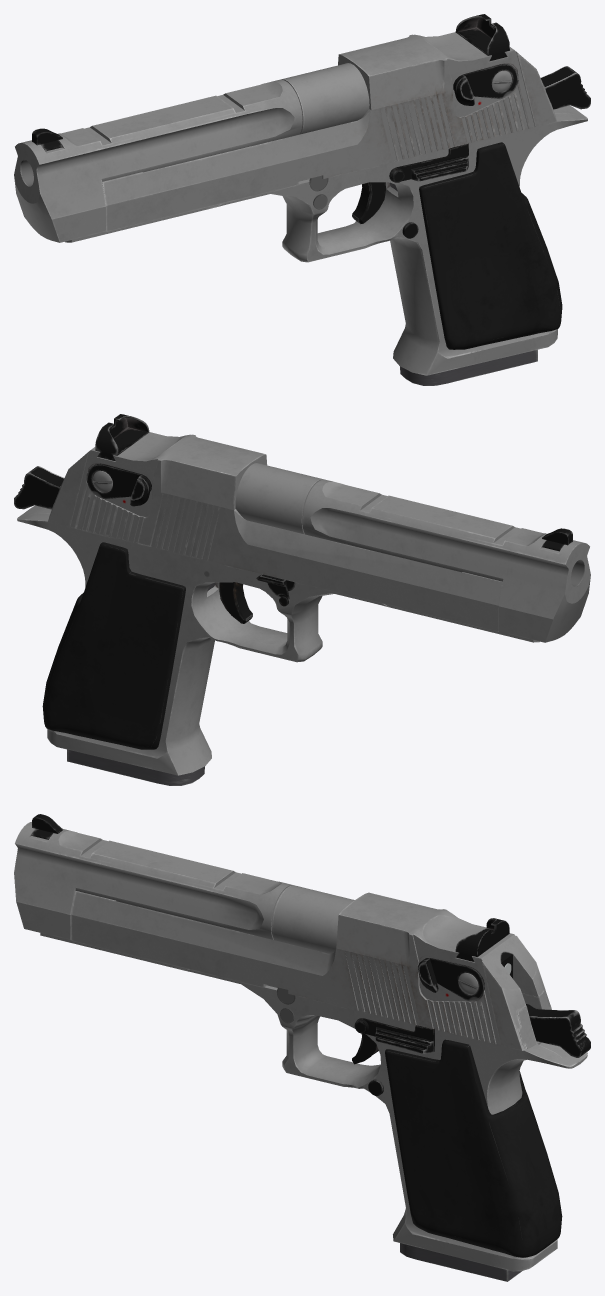
File: deagle.fbx
3 views of the same model, one above another, from view 1: azimuth 30°, elevation 25°; view 2: azimuth 150°, elevation 25°; view 3: azimuth 330°, elevation 25° (orthographic).
Parts seen in each view (by area): view 1: Desert Deagle, Bolt, Safety, Mag, Bolt_Holder, Hammer, Trigger; view 2: Desert Deagle, Bolt, Safety, Mag, Hammer, Trigger; view 3: Desert Deagle, Bolt, Hammer, Safety, Bolt_Holder, Mag.
Part boxes in pixels (x1=…): Desert Deagle: x1=14, y1=63, x2=587, y2=375; Bolt: x1=102, y1=14, x2=557, y2=231; Safety: x1=453, y1=64, x2=518, y2=105; Mag: x1=389, y1=182, x2=537, y2=385; Bolt_Holder: x1=389, y1=143, x2=468, y2=182; Hammer: x1=541, y1=66, x2=590, y2=109; Trigger: x1=352, y1=182, x2=385, y2=223; Desert Deagle: x1=17, y1=463, x2=590, y2=775; Bolt: x1=48, y1=414, x2=502, y2=631; Safety: x1=86, y1=463, x2=151, y2=506; Mag: x1=67, y1=582, x2=215, y2=785; Hammer: x1=14, y1=466, x2=64, y2=509; Trigger: x1=219, y1=582, x2=252, y2=623; Desert Deagle: x1=14, y1=814, x2=587, y2=1271; Bolt: x1=71, y1=891, x2=550, y2=1050; Hammer: x1=526, y1=1004, x2=590, y2=1057; Safety: x1=418, y1=958, x2=484, y2=1001; Bolt_Holder: x1=354, y1=1018, x2=434, y2=1053; Mag: x1=400, y1=1243, x2=521, y2=1281.
Size of the model in its own units: 676 by 390 by 90.04.
